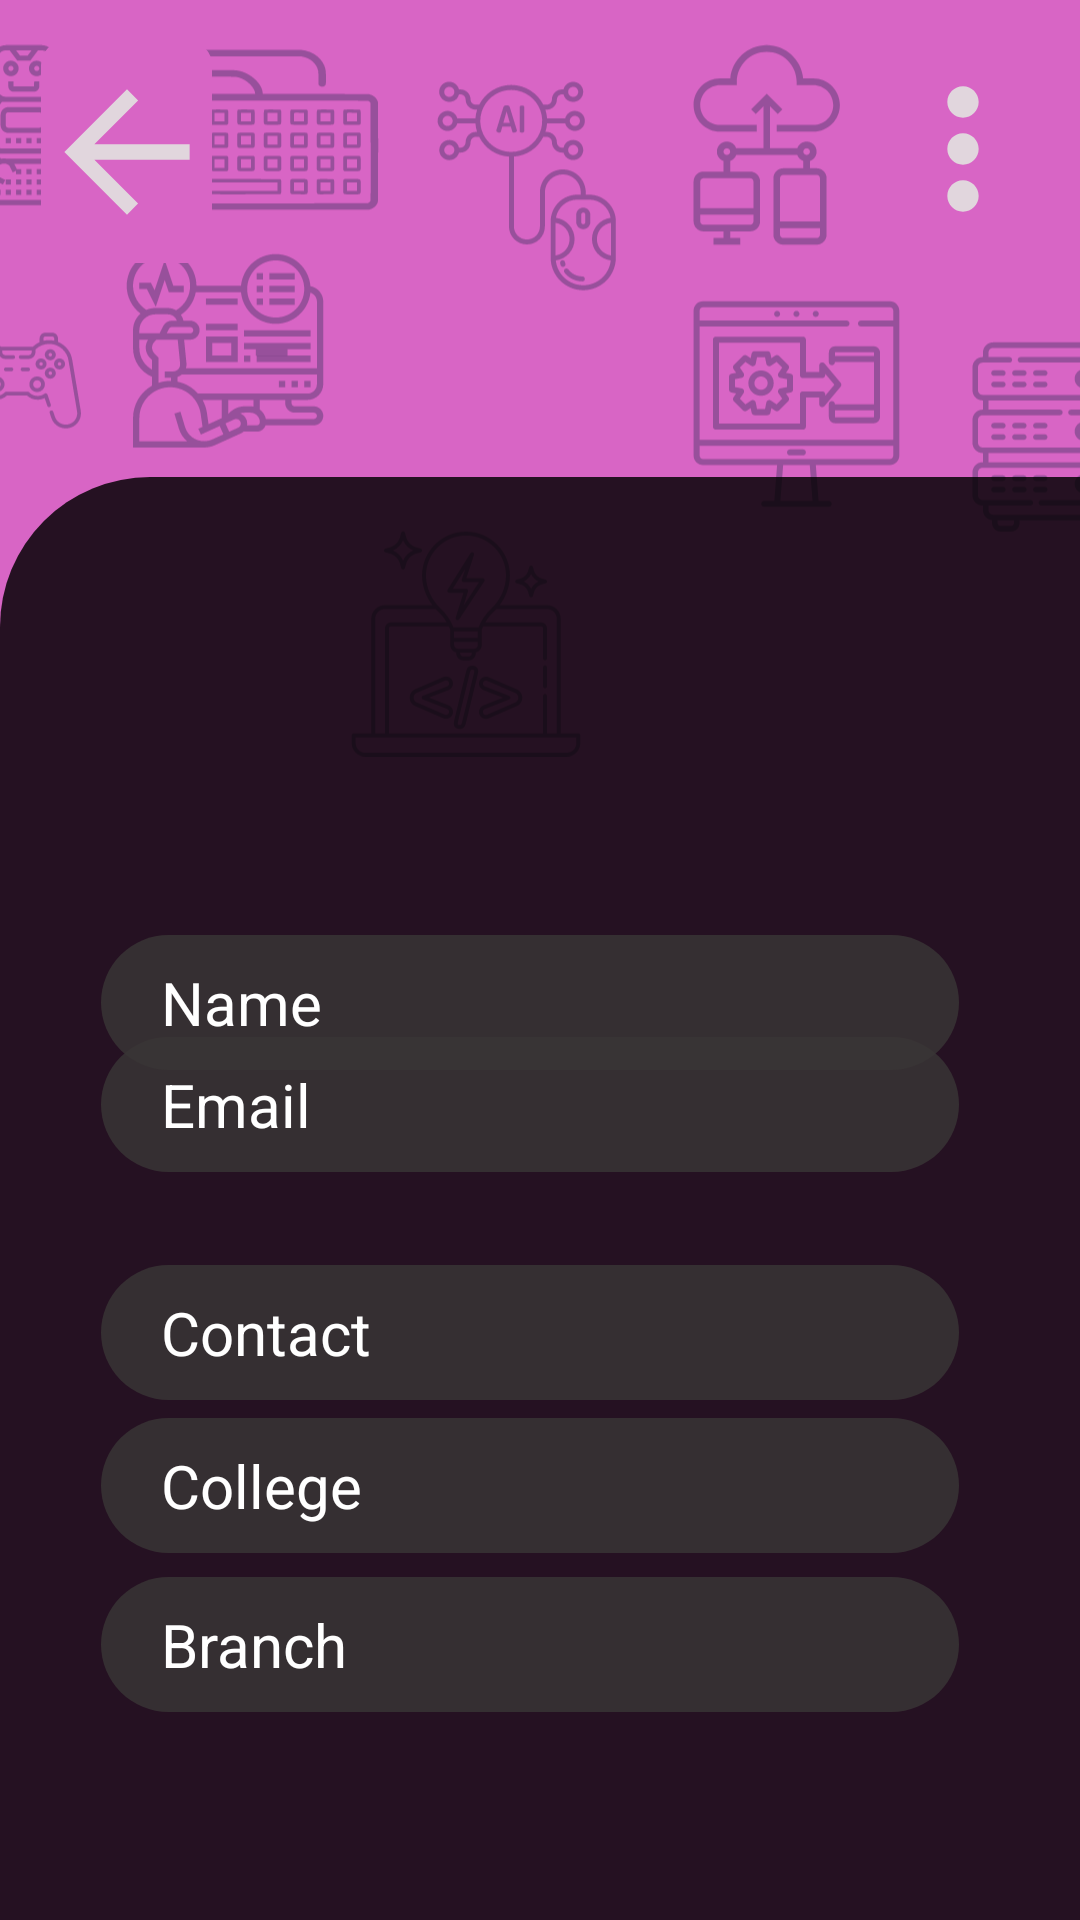

Where icons sit on this 1080w x 1920h app screen, as (x1, y1, x2, y2):
back arrow: (65, 89, 190, 215)
three dots: (947, 86, 979, 212)
